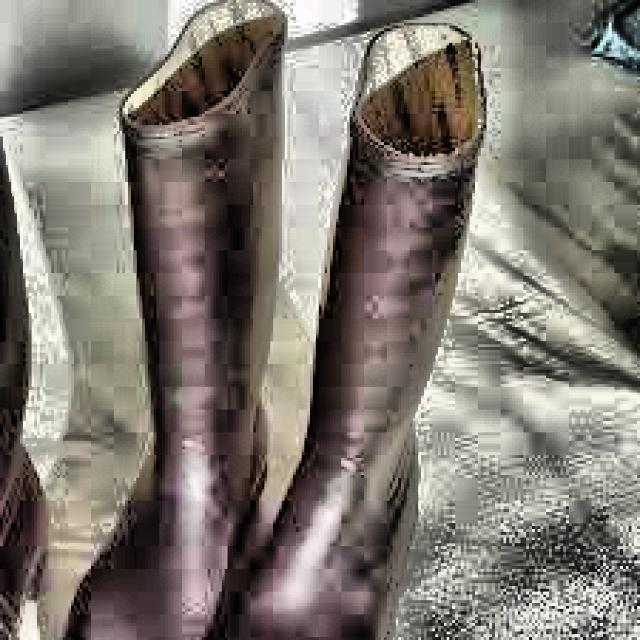shoes: (49, 0, 506, 640)
